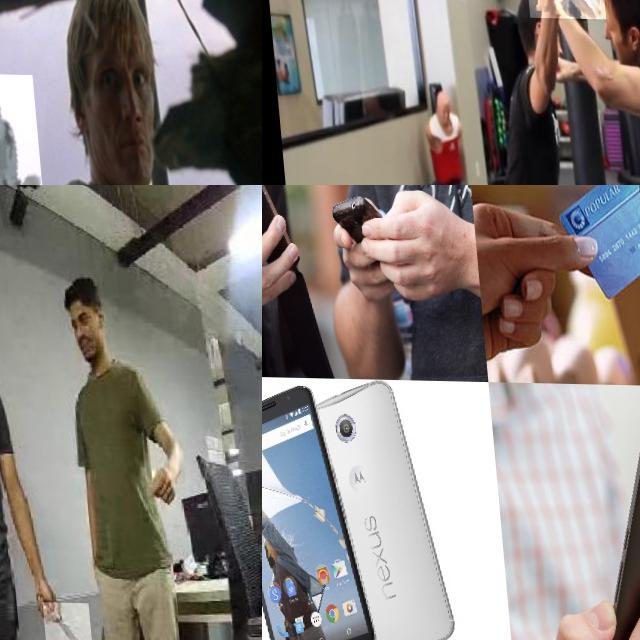-: (522, 0, 604, 40), (33, 600, 83, 640)
gun-knife-thesis - v11 Yolov5 augmented: (0, 70, 93, 185)
